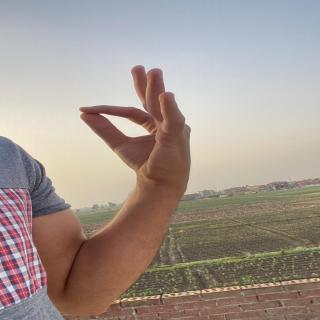Space: (77, 58, 207, 177)
